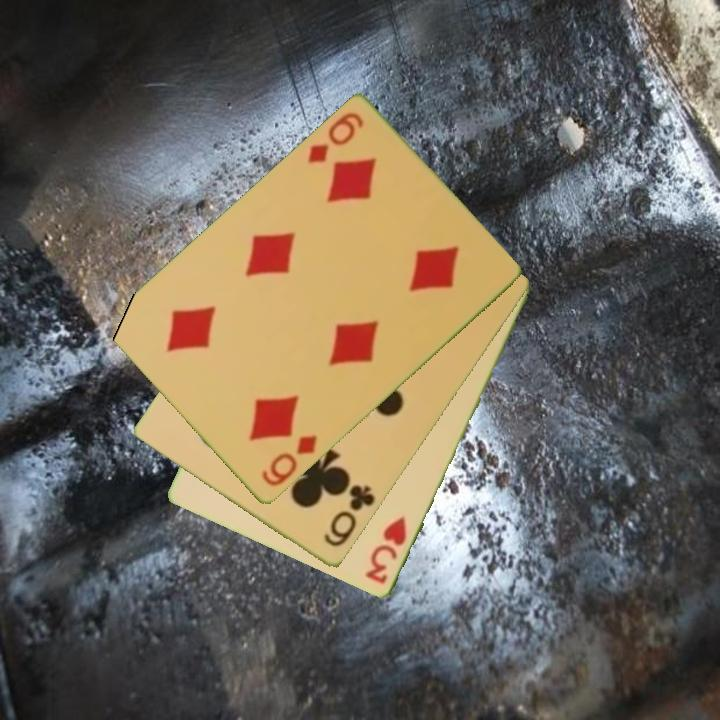3h: (362, 513, 410, 588)
6c: (320, 481, 379, 551)
6d: (303, 109, 366, 168), (258, 432, 320, 490)
